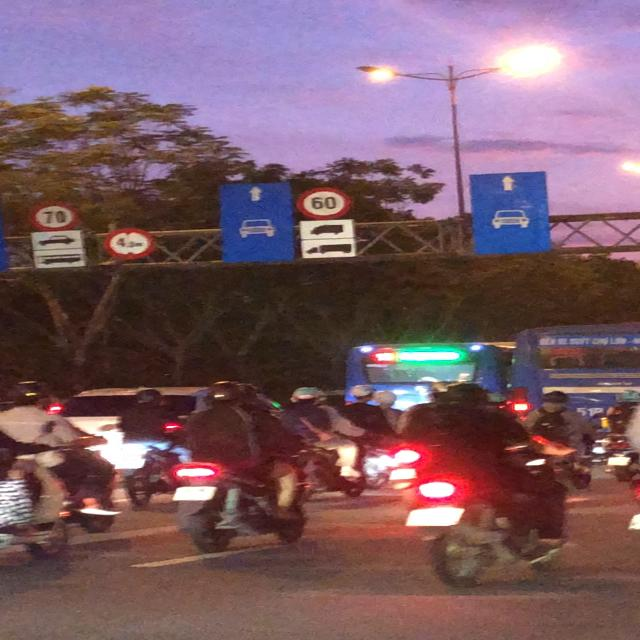Bien bao han che chieu cao: (100, 225, 155, 259)
Bien bao toc do toi da cho phep: (290, 187, 352, 220), (28, 200, 81, 235)
